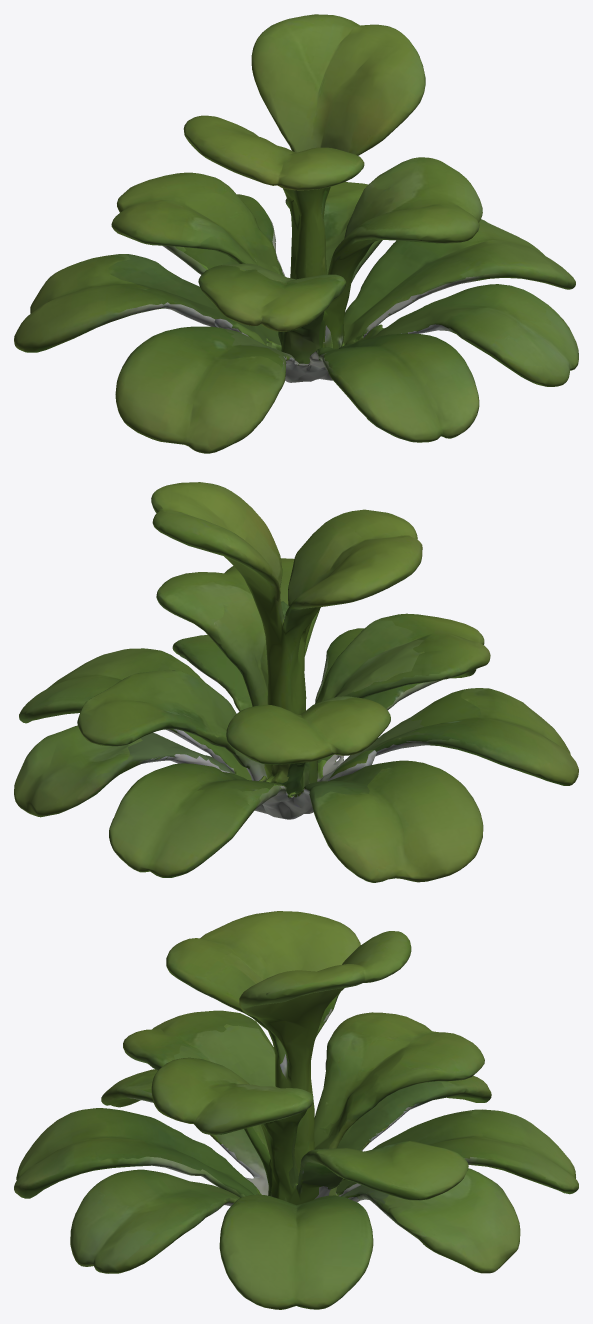
Rendered from g-low-herb.glb.
3 views of the same model, one above another, from view 1: azimuth 30°, elevation 25°; view 2: azimuth 150°, elevation 25°; view 3: azimuth 270°, elevation 25° (orthographic).
Visible parts, largest first — view 1: world; view 2: world; view 3: world.
Boxes of the visible parts, <box> form: world: <box>14,14,578,453</box>; world: <box>14,482,578,882</box>; world: <box>14,911,578,1309</box>.
Bounding box in the file's own units: 1.96 × 1.18 × 1.98.
1 material, 1 textured.
